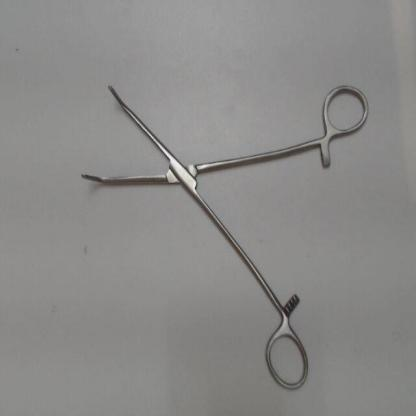Lahey Forceps: (74, 75, 374, 397)
